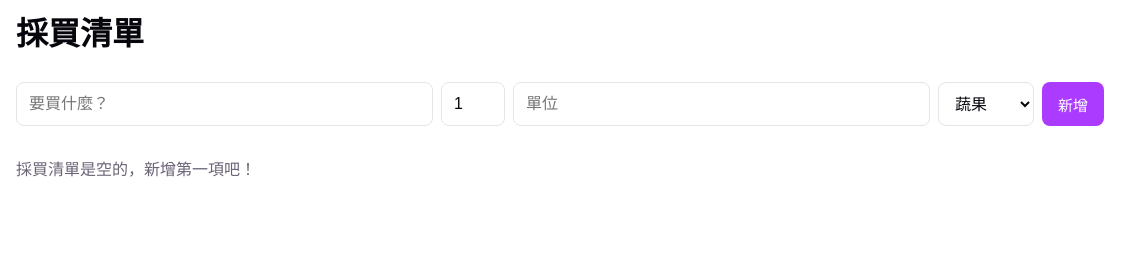
ShoppingList.vue › shows an error message when adding an item fails
In the field with placeholder "要買什麼？": (224, 104) [16,82,433,126], type "麵包"
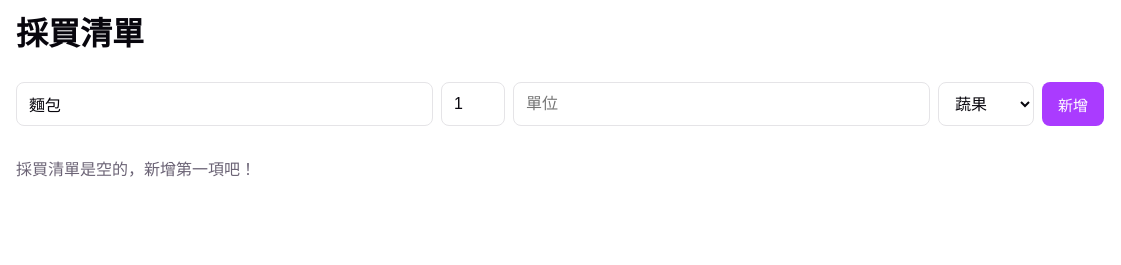
Submit the form, box [16,82,1104,126]
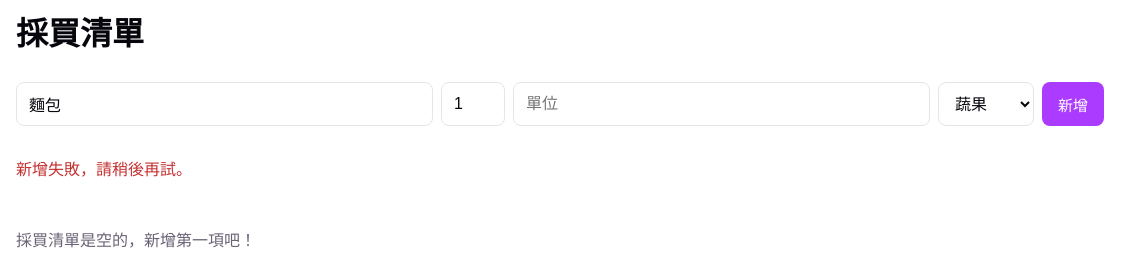
Expected: the text "新增失敗" is shown, [16,158,192,180]
